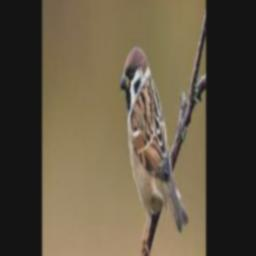Sparrow: (120, 47, 189, 256)
